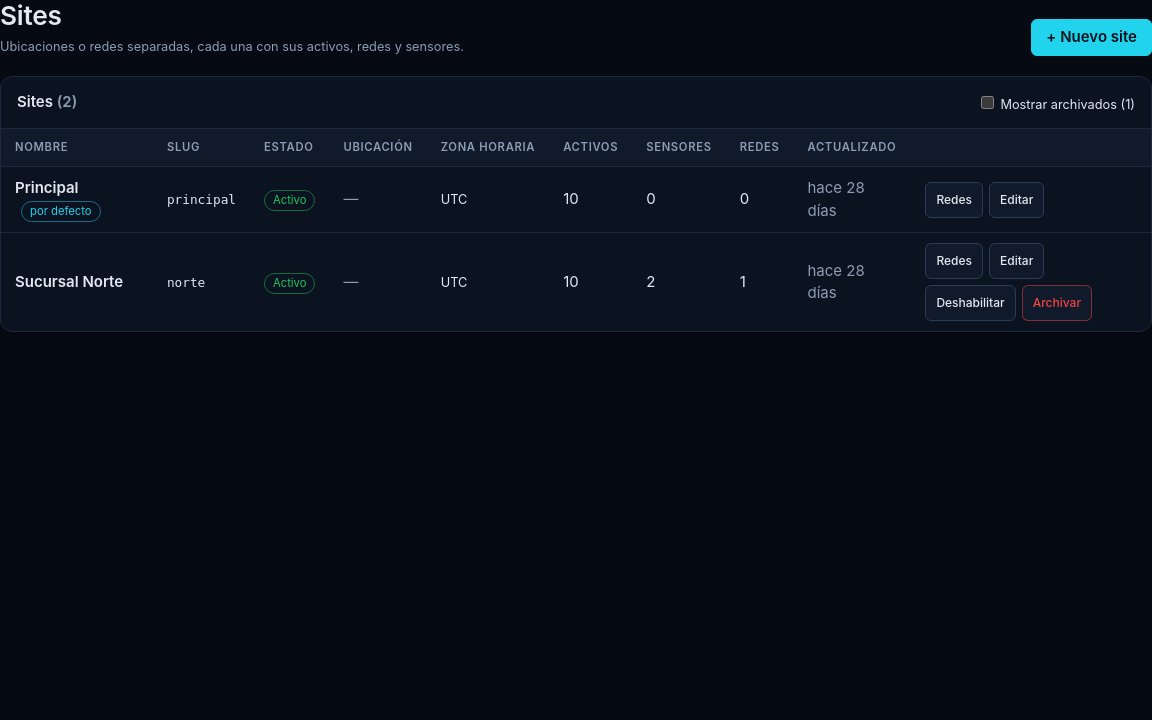
Test: SitesPage › admin: un 409 site_conflict al editar avisa y recarga
This screenshot has width=1152, height=720.
Click the button with aria-label "Editar Sucursal Norte". click: (1017, 261)
box: [989,243,1044,279]
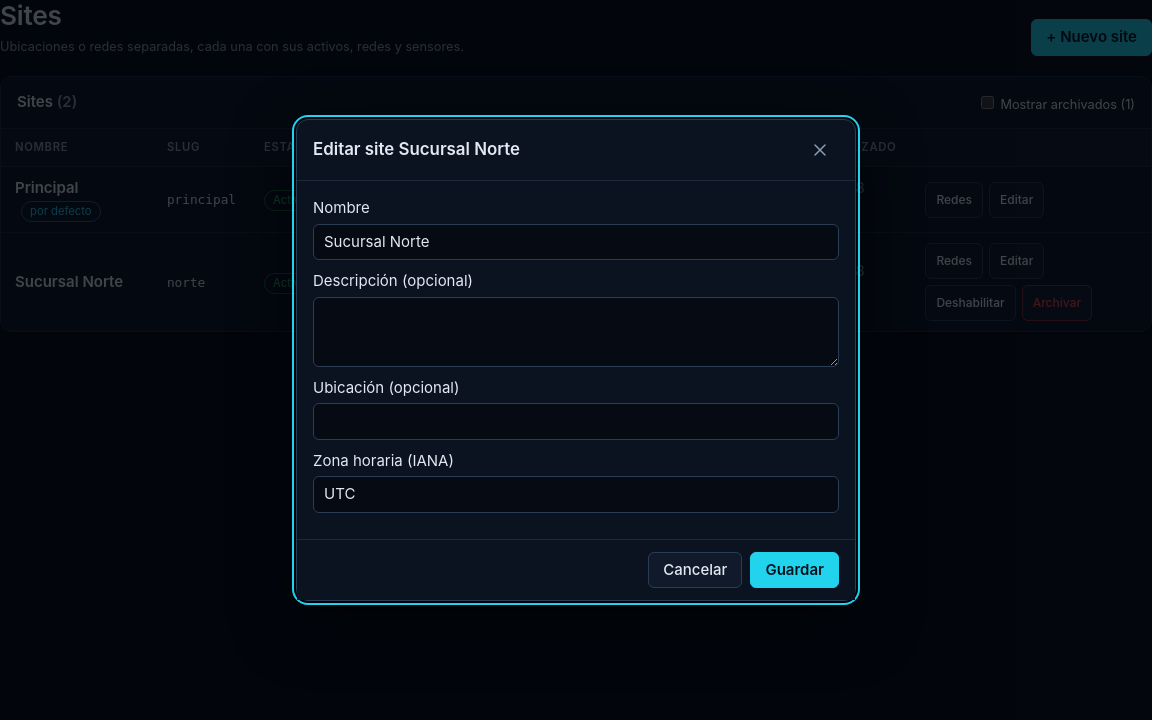
Replace the text in the field labelled "Nombre" with "Norte 2". click: (576, 242)
box: [313,224,839,260]
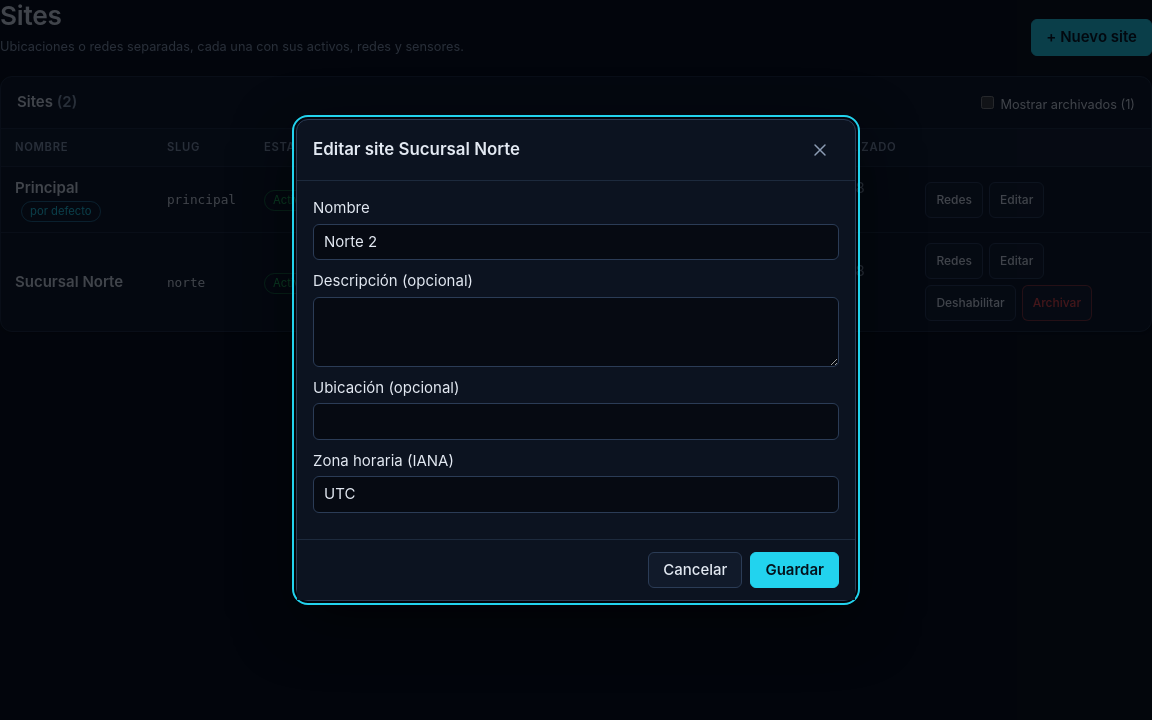
Click the button "Guardar". click: (795, 570)
box: [750,552,839,588]
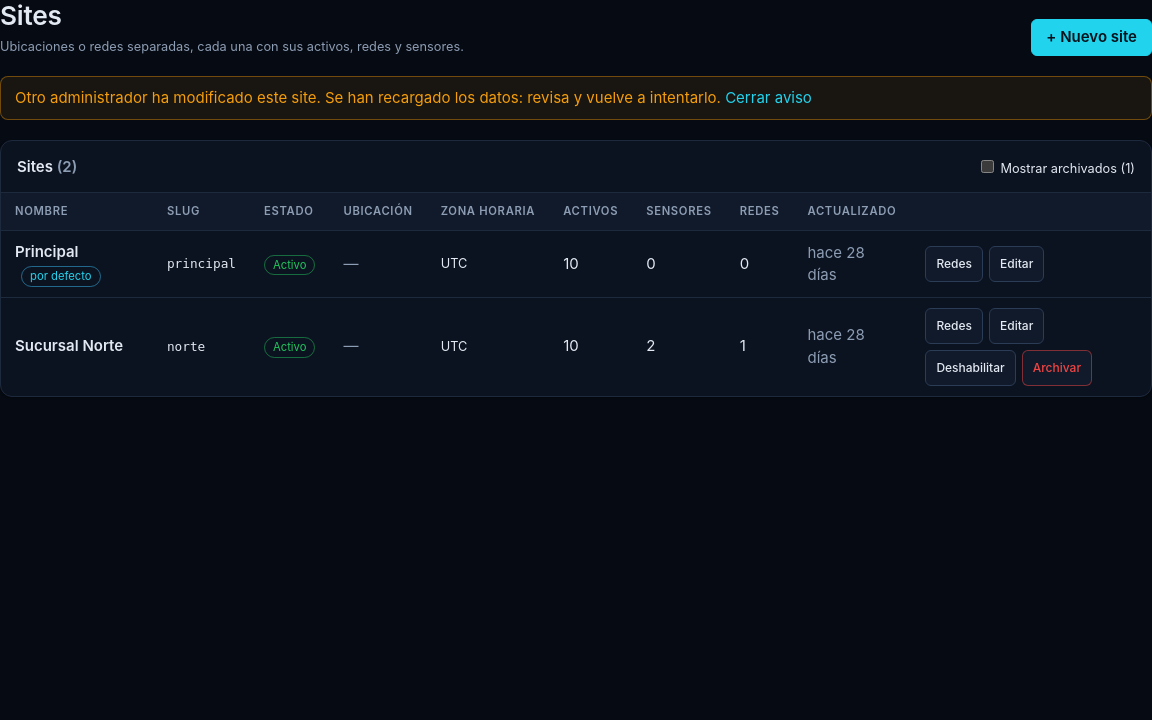
Now the text "Otro administrador ha modificado este site" is shown, box [15,88,721,107]
